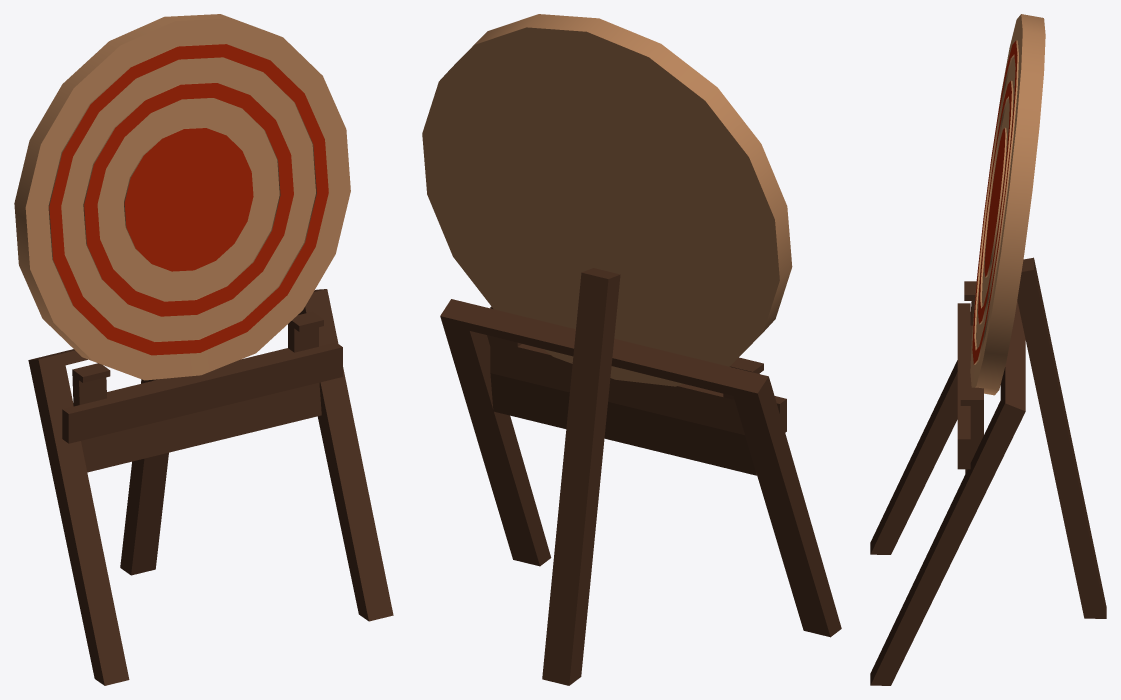
Rendered from Bersaglio + sostegno.fbx.
3 views of the same model, side by side, from view 1: azimuth 30°, elevation 25°; view 2: azimuth 150°, elevation 25°; view 3: azimuth 270°, elevation 25° (orthographic). The views are drawn at different scales.
Visible parts, largest first — view 1: Cylinder.049, Cube.021; view 2: Cylinder.049, Cube.021; view 3: Cube.021, Cylinder.049.
Part boxes in pixels (x1=…): Cylinder.049: x1=14, y1=14, x2=350, y2=380; Cube.021: x1=28, y1=289, x2=393, y2=685; Cylinder.049: x1=422, y1=14, x2=792, y2=386; Cube.021: x1=440, y1=268, x2=841, y2=685; Cube.021: x1=870, y1=257, x2=1106, y2=685; Cylinder.049: x1=970, y1=14, x2=1045, y2=395.
Size of the model in its own units: 202 by 347 by 127.
